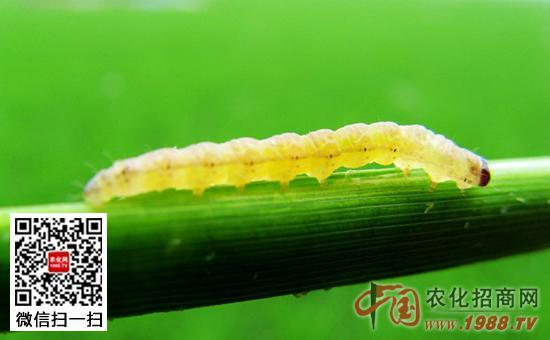caterpillars: (57, 83, 508, 215)
